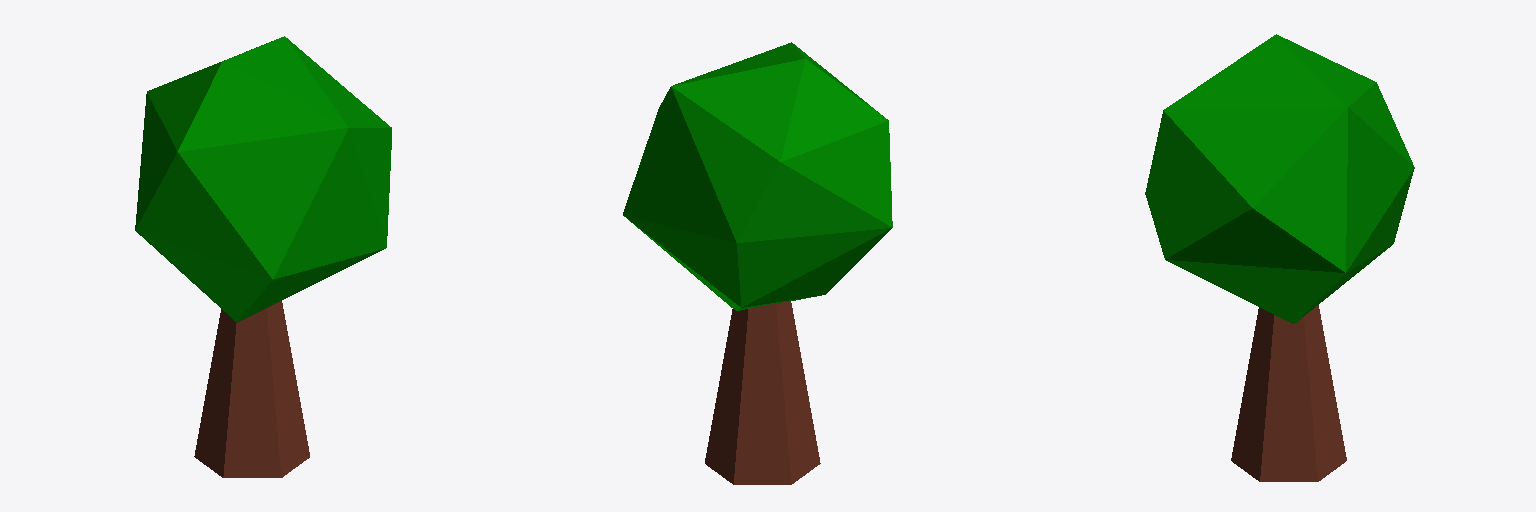
File: tree_low-poly-single-trunk.obj
3 renders of one model, left to right at view 1: azimuth 30°, elevation 25°; view 2: azimuth 150°, elevation 25°; view 3: azimuth 270°, elevation 25°, orthographic.
Parts seen in each view (by area): view 1: Cylinder_Cylinder.003; view 2: Cylinder_Cylinder.003; view 3: Cylinder_Cylinder.003.
Boxes of the visible parts, box(x1,y1,x2,y2) form: Cylinder_Cylinder.003: box(135, 36, 391, 477); Cylinder_Cylinder.003: box(623, 42, 892, 484); Cylinder_Cylinder.003: box(1145, 34, 1414, 481).
Bounding box in the file's own units: 2.03 × 3.23 × 1.93.